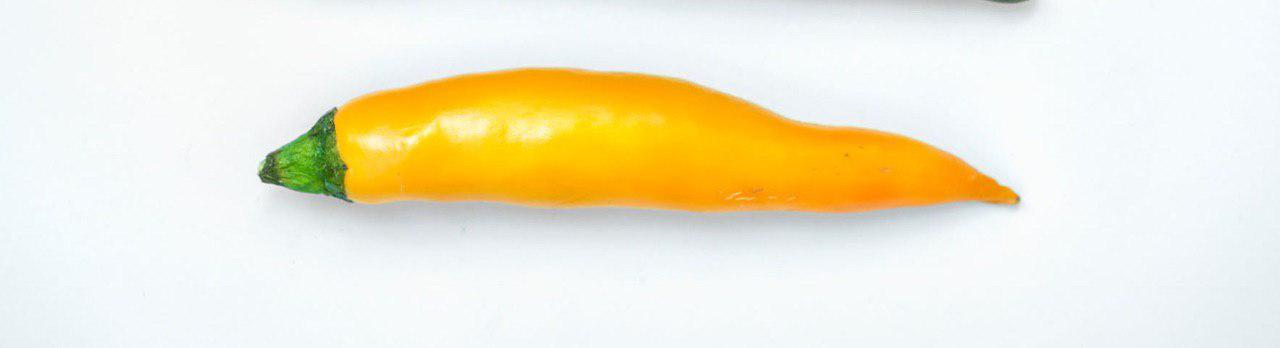lada kuning: (285, 49, 1048, 257)
